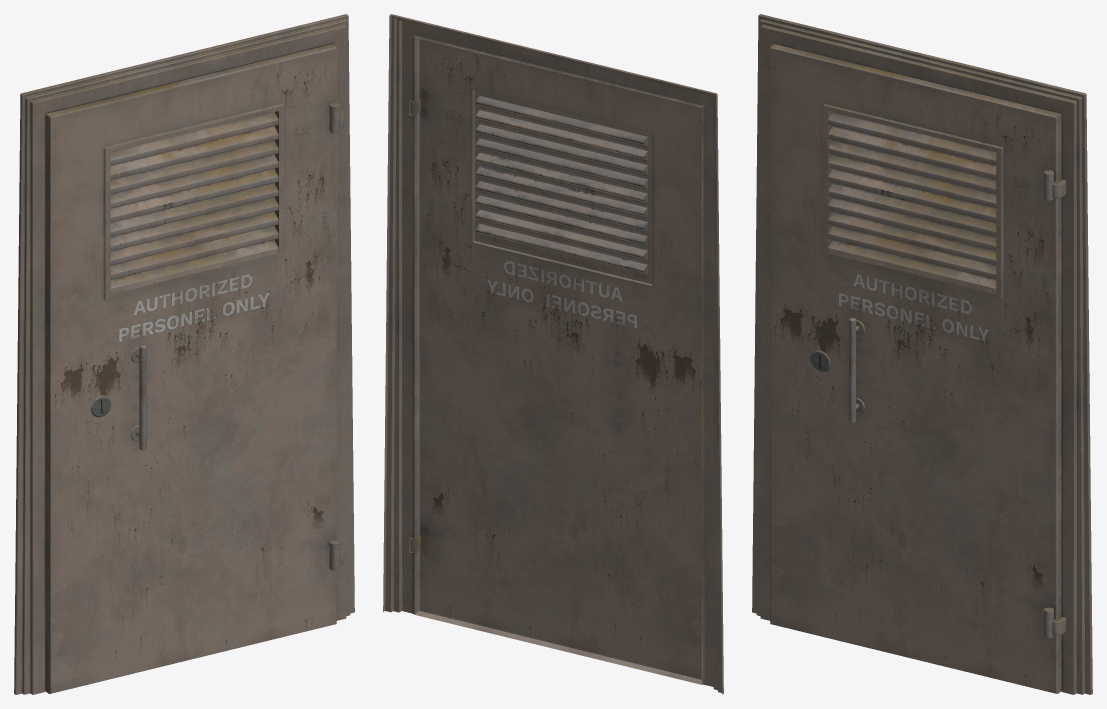
File: SM_Single_Door02.glb
The picture shows the model from 3 angles, left to right: view 1: azimuth 30°, elevation 25°; view 2: azimuth 150°, elevation 25°; view 3: azimuth 330°, elevation 25°; orthographic projection.
Visible parts, largest first — view 1: SM_Single_Door02; view 2: SM_Single_Door02; view 3: SM_Single_Door02.
Boxes of the visible parts, <box> form: SM_Single_Door02: <box>14,14,354,694</box>; SM_Single_Door02: <box>383,14,723,694</box>; SM_Single_Door02: <box>752,14,1092,694</box>.
Size of the model in its own units: 1.24 by 2.09 by 0.106.
Materials: 1 (1 with a texture image).
